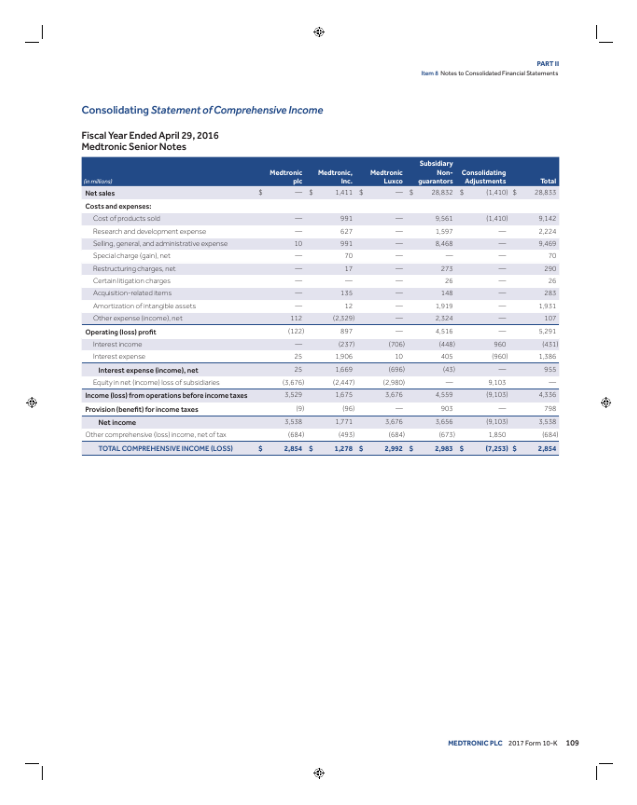table: (80, 155, 558, 460)
